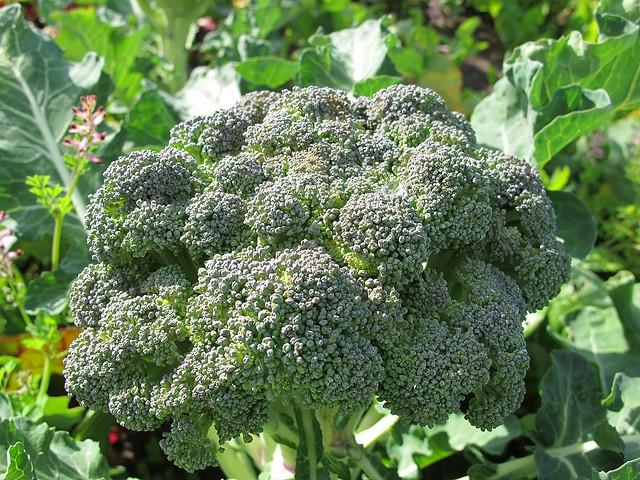broccoli: (65, 84, 569, 469)
